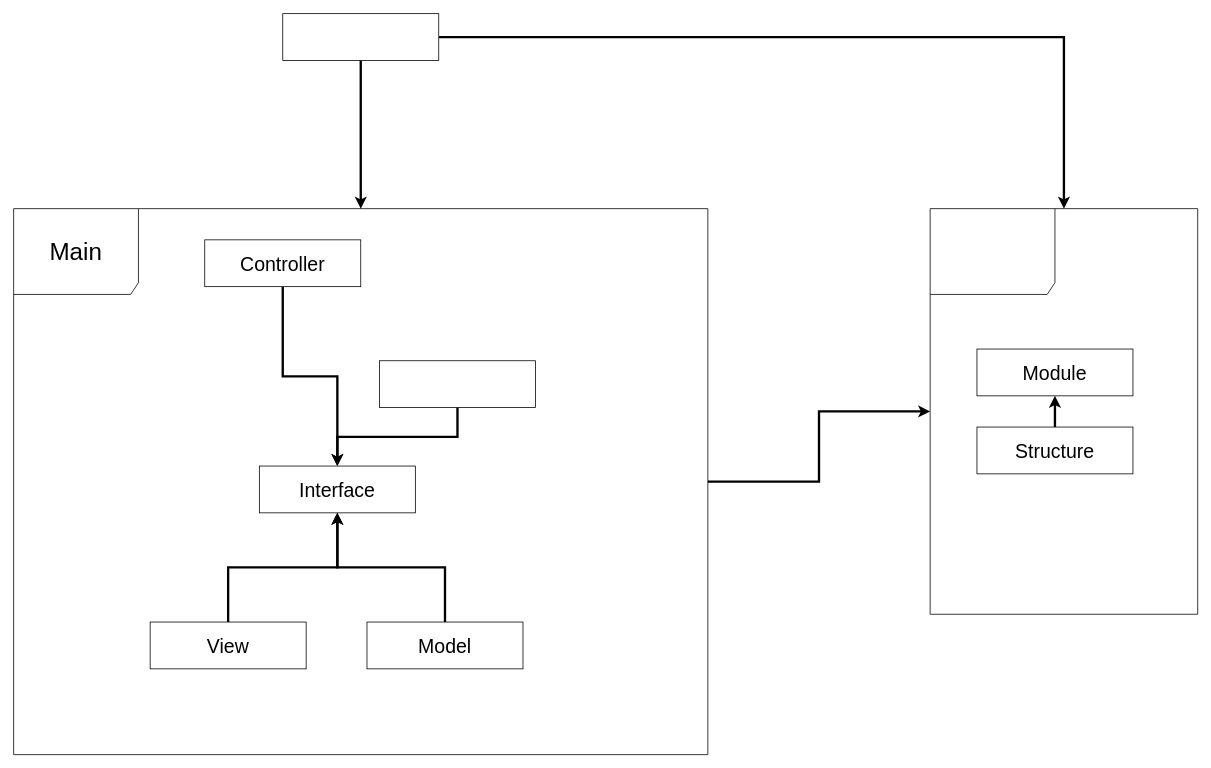
The diagram is 1211 pixels wide and 768 high, and some of its shapes have lost their labels. Each missing label, with the box of its shape:
Installer: (282, 13, 439, 60)
Logic: (379, 360, 535, 408)
Sub: (929, 208, 1198, 614)
